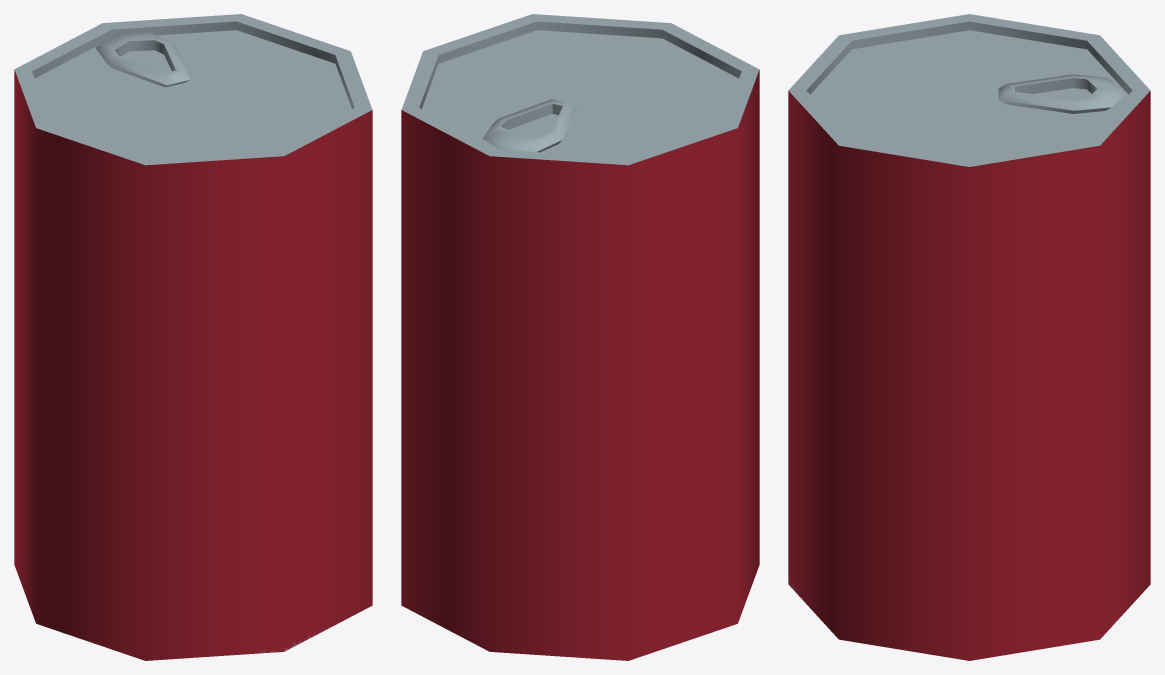
File: can.fbx
3 views of the same model, side by side, from view 1: azimuth 30°, elevation 25°; view 2: azimuth 150°, elevation 25°; view 3: azimuth 270°, elevation 25° (orthographic).
Visible parts, largest first — view 1: Can; view 2: Can; view 3: Can.
Boxes of the visible parts, x1,y1,x2,y2 form: Can: (14,14,372,660); Can: (401,14,759,660); Can: (788,14,1150,660).
Bounding box in the file's own units: 40.14 × 60.56 × 40.14.
